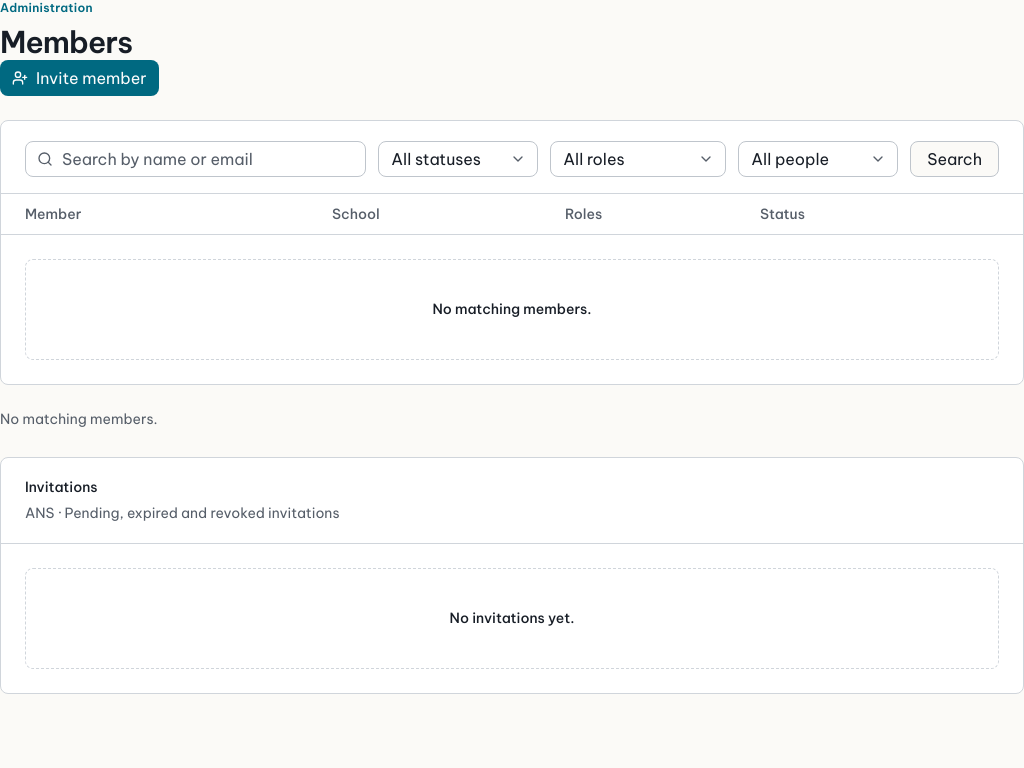
Test: MembersDirectory › sends one invitation request while creation is pending
This screenshot has width=1024, height=768.
Click the button "Invite member" at (79,78), box x1=0 y1=60 x2=159 y2=96
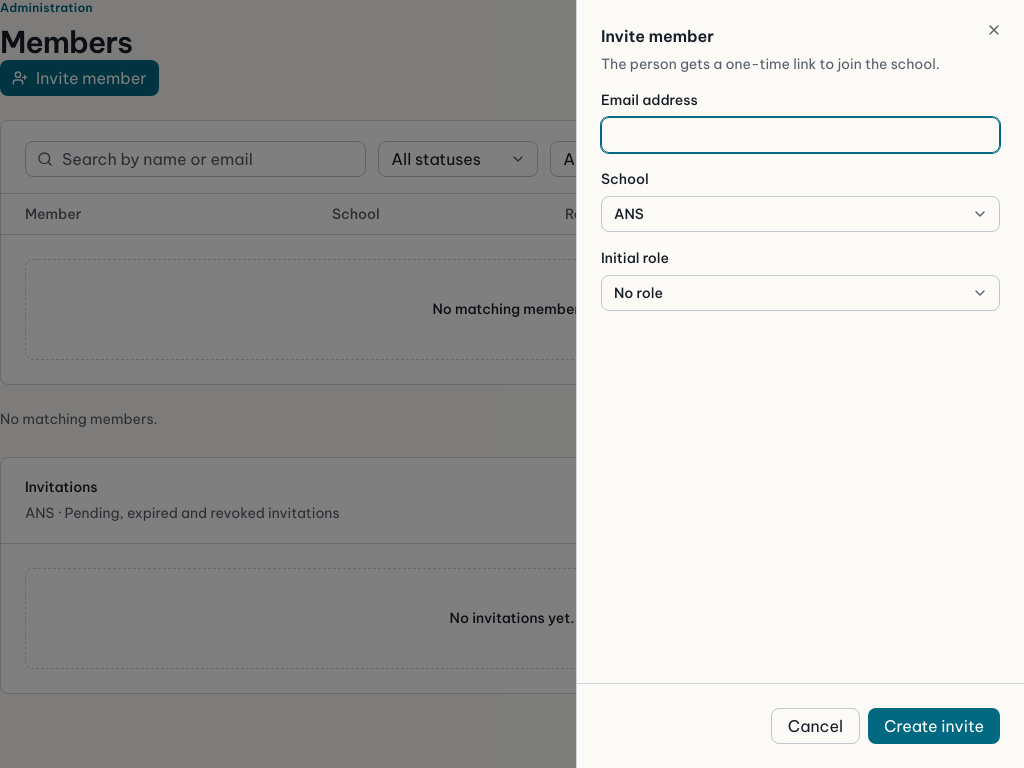
Type "new@example.com" into the field labelled "Email address" at (800,135), box x1=601 y1=117 x2=1000 y2=153
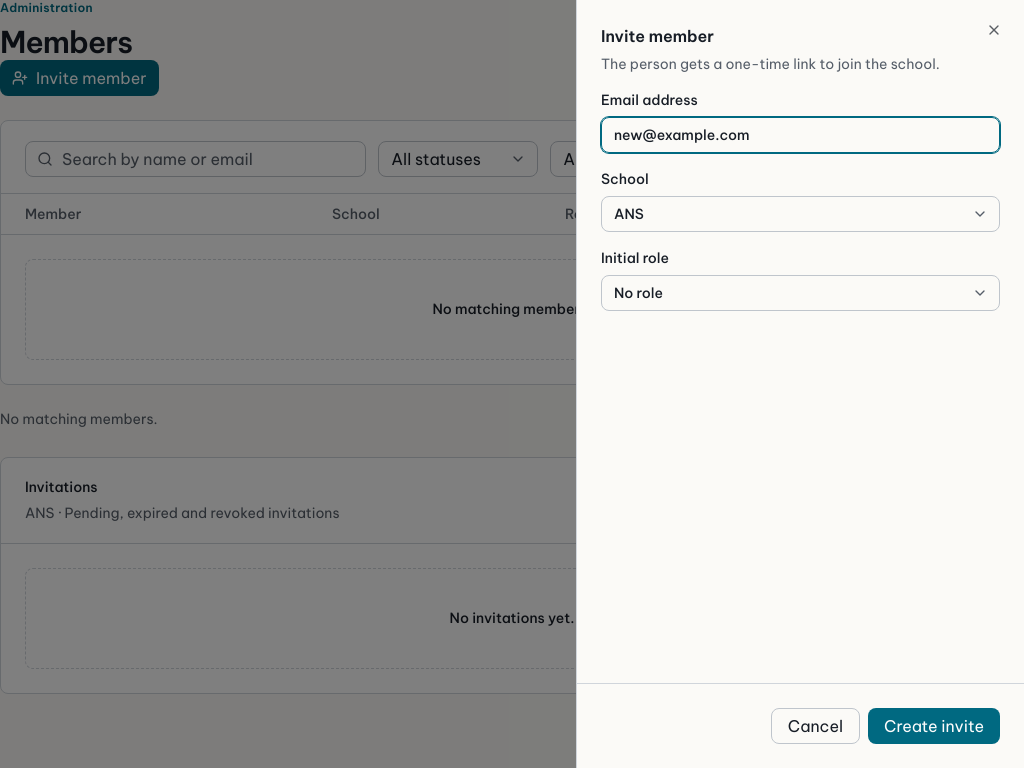
Now the form "Create invite" is shown
Submit the form "Create invite", box x1=577 y1=90 x2=1023 y2=767
Submit the form "Create invite", box x1=577 y1=90 x2=1023 y2=767
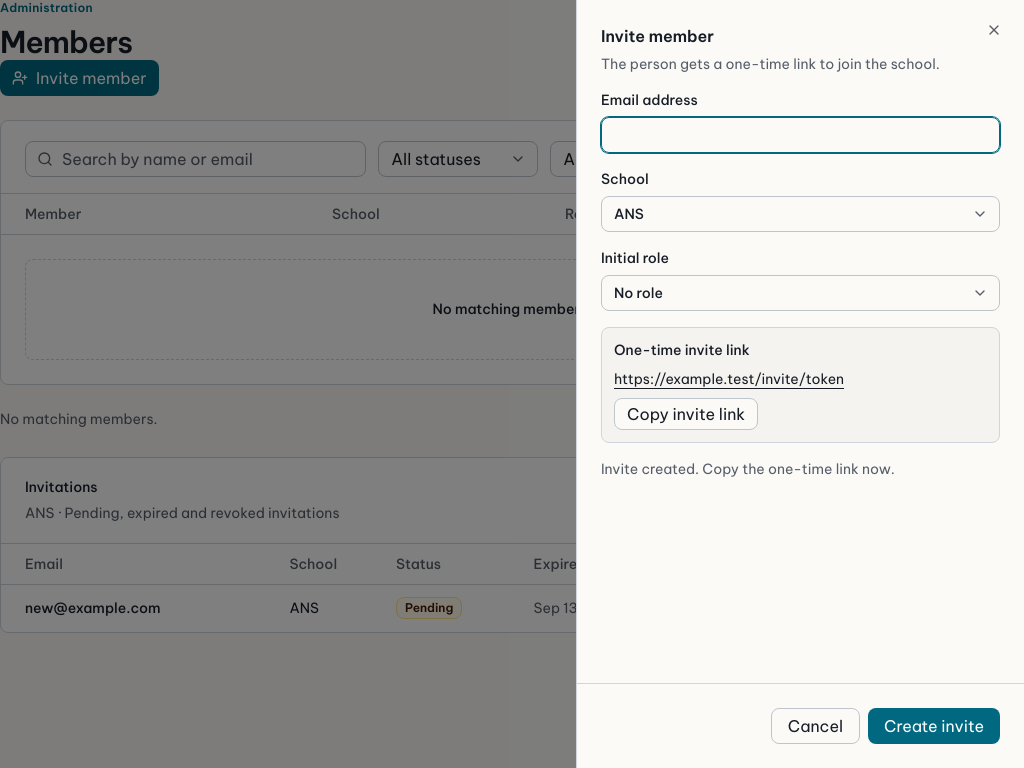
Now the button "Copy invite link" is shown, box x1=614 y1=398 x2=758 y2=430
